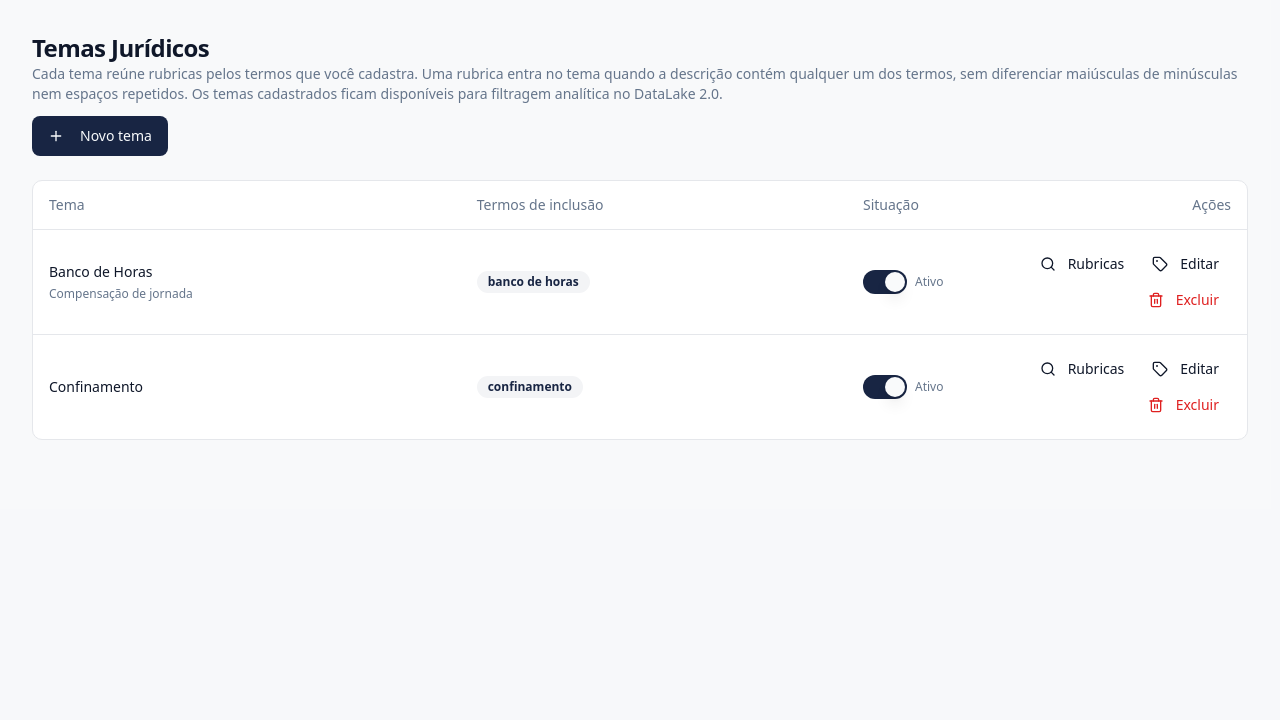
Temas — rubricas no DataLake 2.0 › mostra estado vazio com orientação quando nenhuma rubrica for encontrada
The image size is (1280, 720).
Expected: the text "Banco de Horas" is shown, [49, 262, 152, 280]
Click the 1st button "Rubricas": (1082, 264) [1028, 246, 1136, 282]
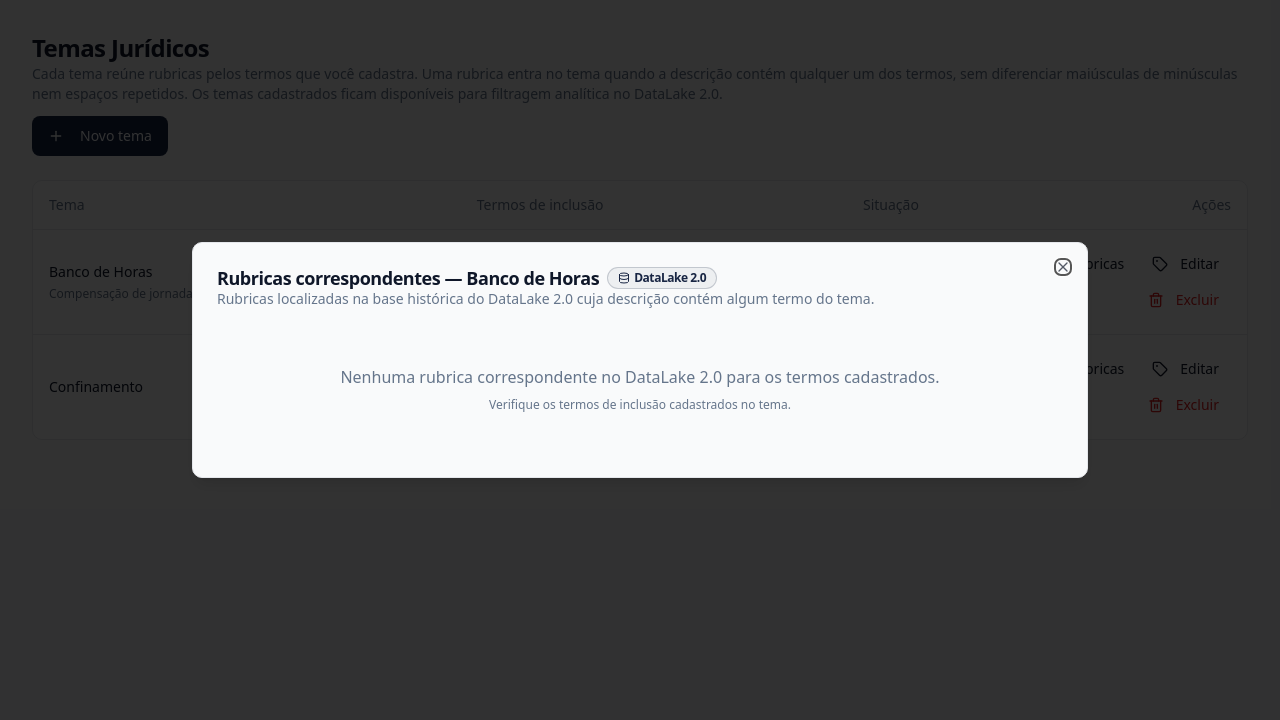
Expected: the text "Nenhuma rubrica correspondente no DataLake 2.0 para os termos cadastrados." is shown, [340, 366, 940, 388]
